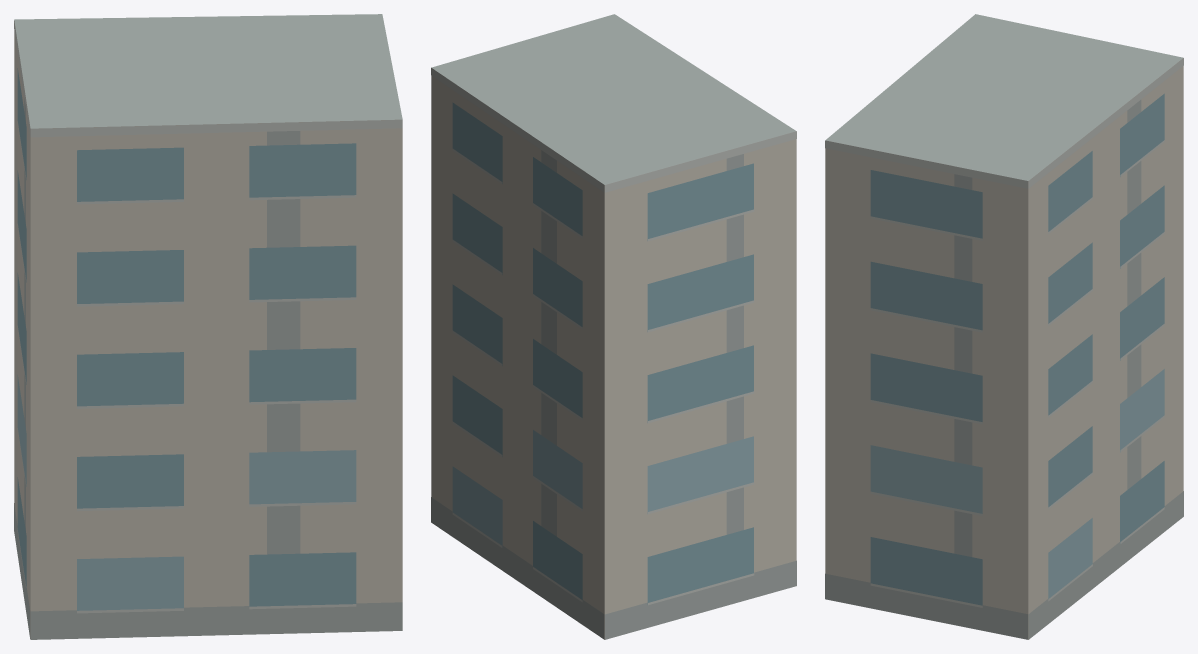
File: survey-upis-32734756.glb
3 renders of one model, left to right at view 1: azimuth 30°, elevation 25°; view 2: azimuth 150°, elevation 25°; view 3: azimuth 270°, elevation 25°, orthographic. The views are drawn at different scales.
Parts seen in each view (by area): view 1: survey-upis-32734756.tmp; view 2: survey-upis-32734756.tmp; view 3: survey-upis-32734756.tmp.
Boxes of the visible parts, x1,y1,x2,y2 form: survey-upis-32734756.tmp: (14,14,402,639); survey-upis-32734756.tmp: (431,14,796,639); survey-upis-32734756.tmp: (825,14,1183,639).
Bounding box in the file's own units: 11.14 × 14.25 × 10.1.
